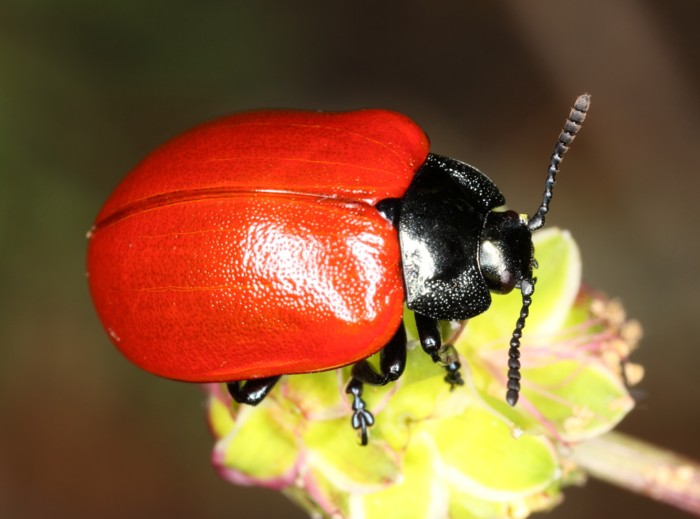Chrysomela_populi: (80, 84, 598, 452)
